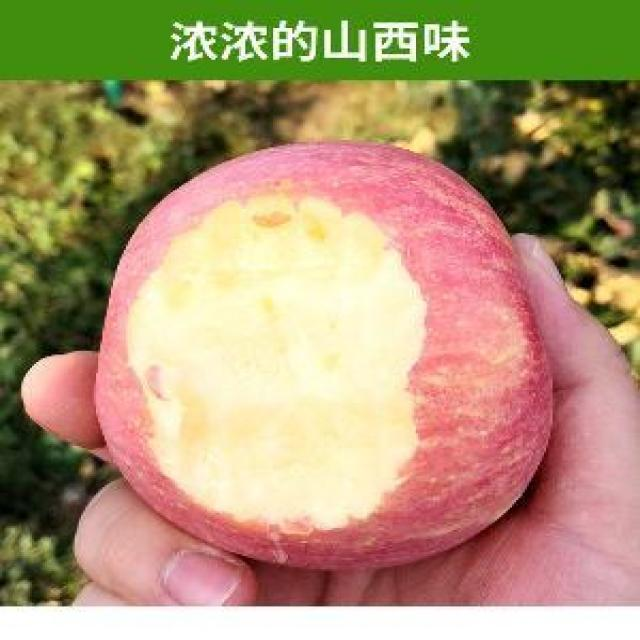Rotten: (103, 153, 562, 570)
